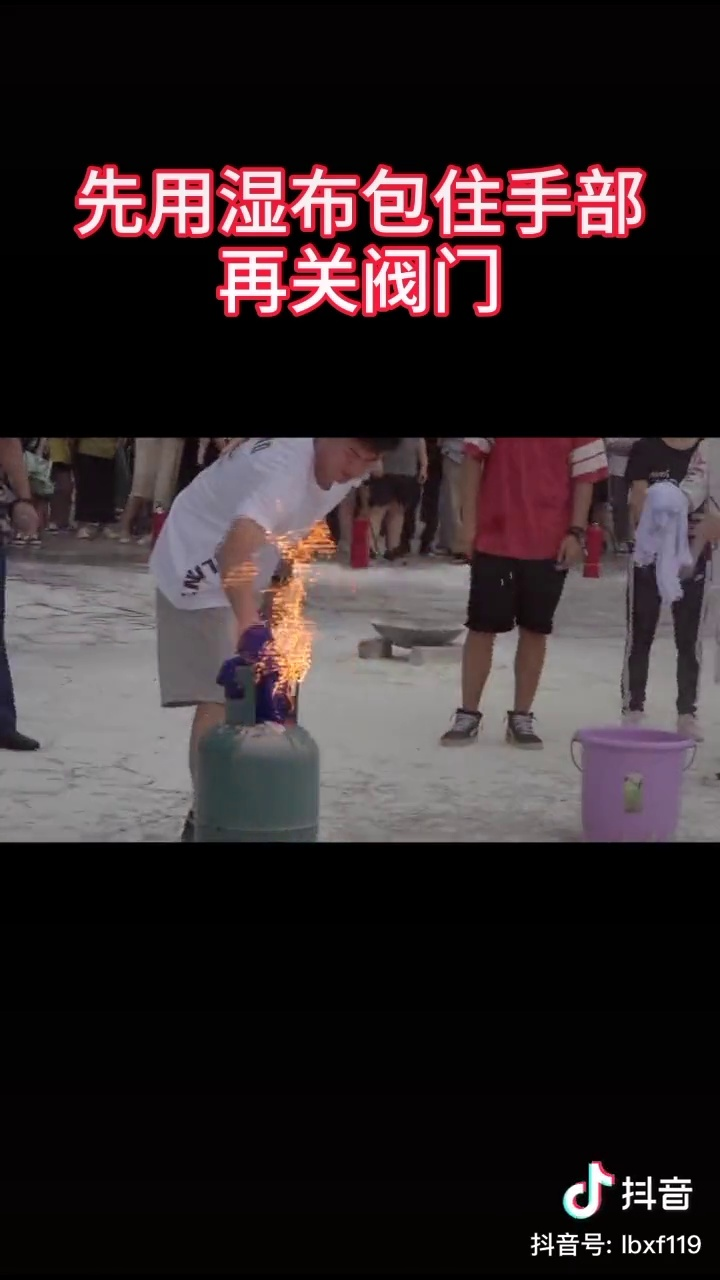fire: (257, 524, 339, 673)
